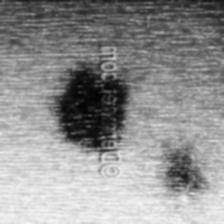Potentially Malignant Skin Tumors: (55, 59, 98, 162), (162, 137, 202, 203)
